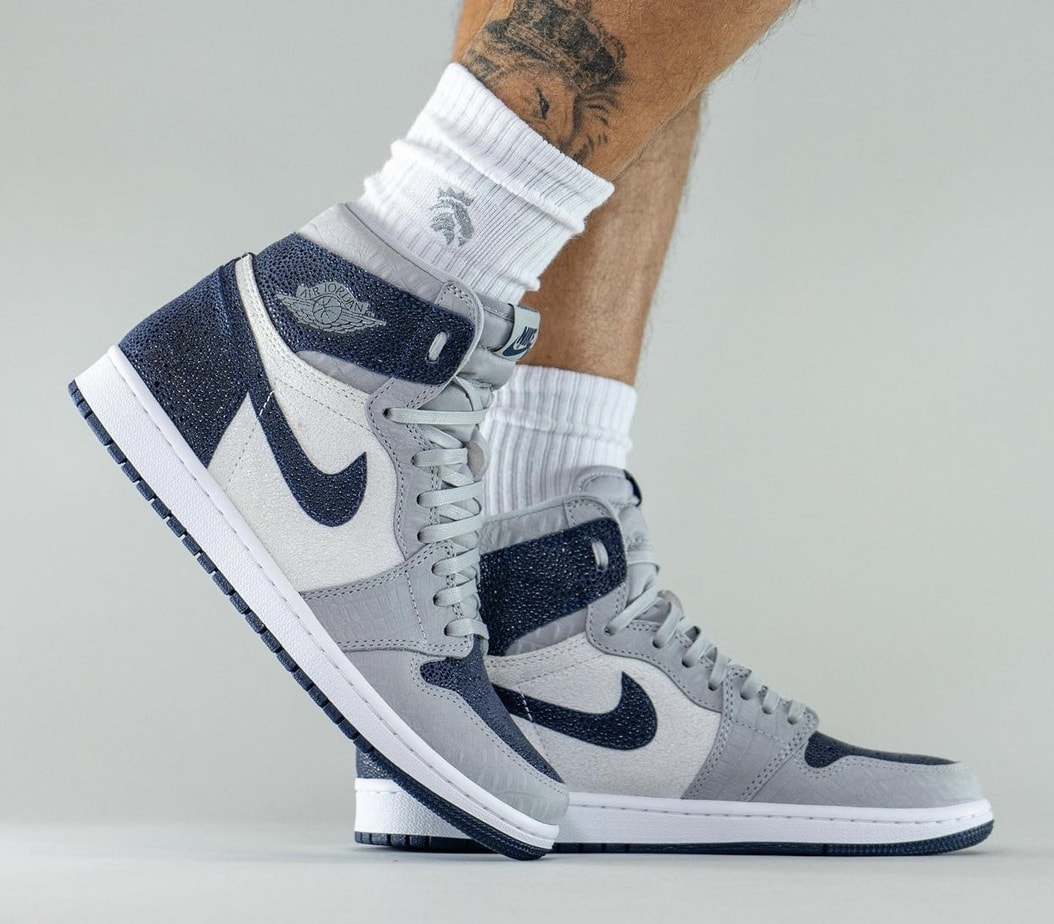Jordan 1: (63, 190, 576, 876), (351, 456, 999, 871)
